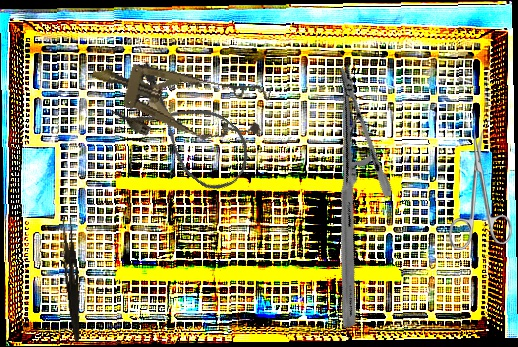Cannula: (107, 58, 263, 201)
Dressing Forceps: (57, 217, 87, 342)
Iris Scissors: (449, 130, 512, 250)
Needle Holder: (230, 62, 465, 331)
Speculum: (83, 39, 273, 154)
